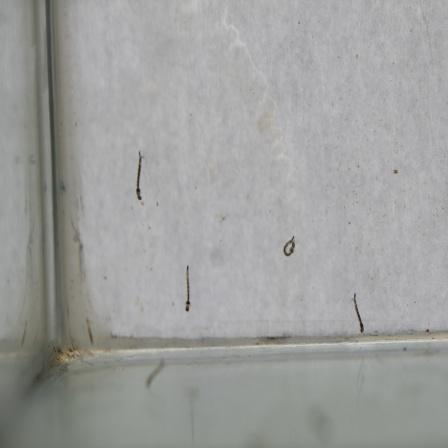Jentik-Nyamuk: (180, 260, 194, 315), (351, 291, 368, 336), (132, 150, 146, 203), (278, 233, 299, 261)
